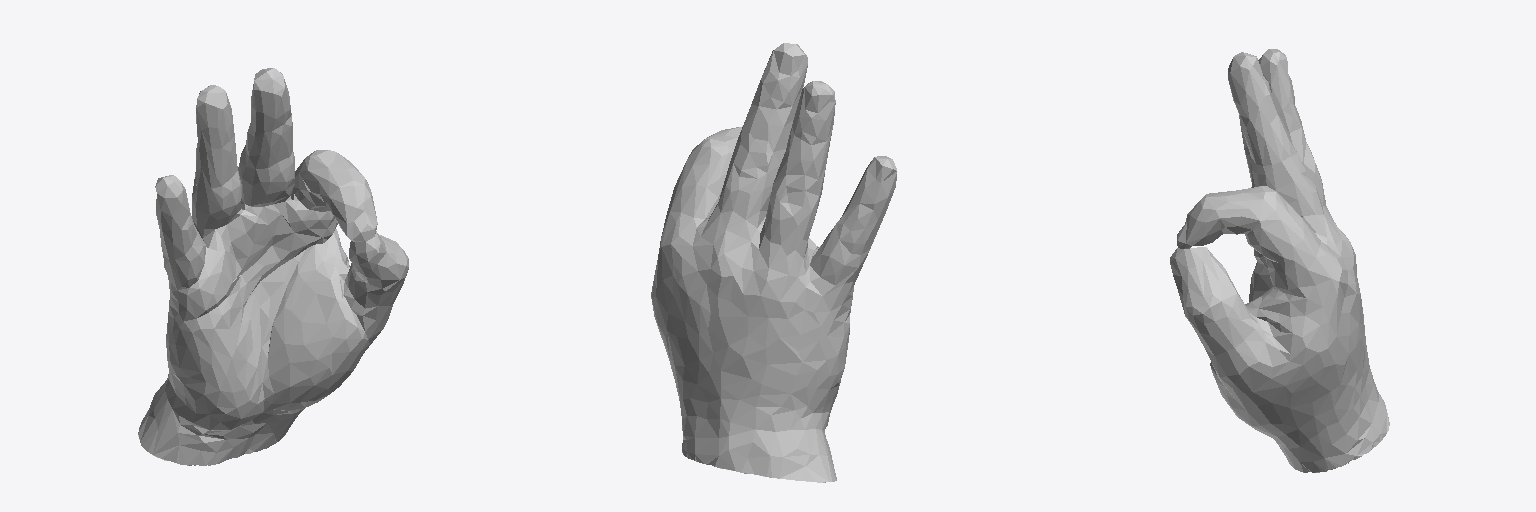
The picture shows the model from 3 angles: view 1: azimuth 30°, elevation 25°; view 2: azimuth 150°, elevation 25°; view 3: azimuth 270°, elevation 25°; orthographic projection.
Parts seen in each view (by area): view 1: ok; view 2: ok; view 3: ok.
Part boxes in pixels (bbox=[...]): ok: bbox=[138, 68, 408, 465]; ok: bbox=[651, 43, 896, 482]; ok: bbox=[1170, 49, 1389, 472].
Size of the model in its own units: 1.28 by 2.14 by 1.06.